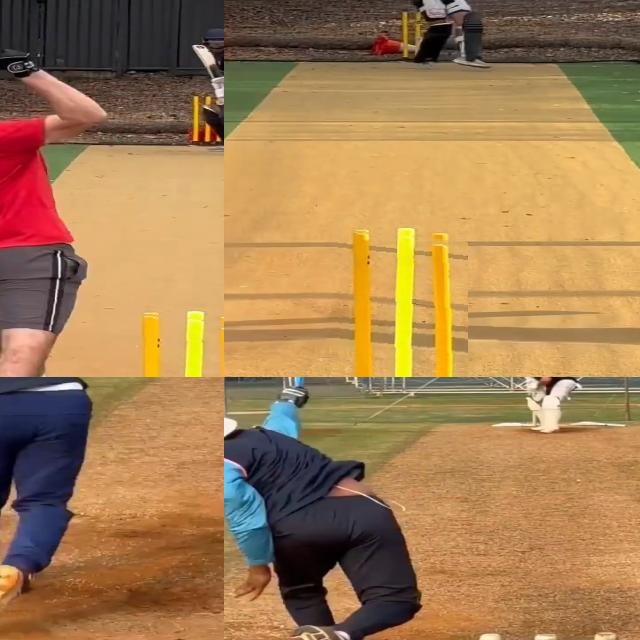Stumps: (332, 228, 467, 377), (119, 311, 224, 377)
